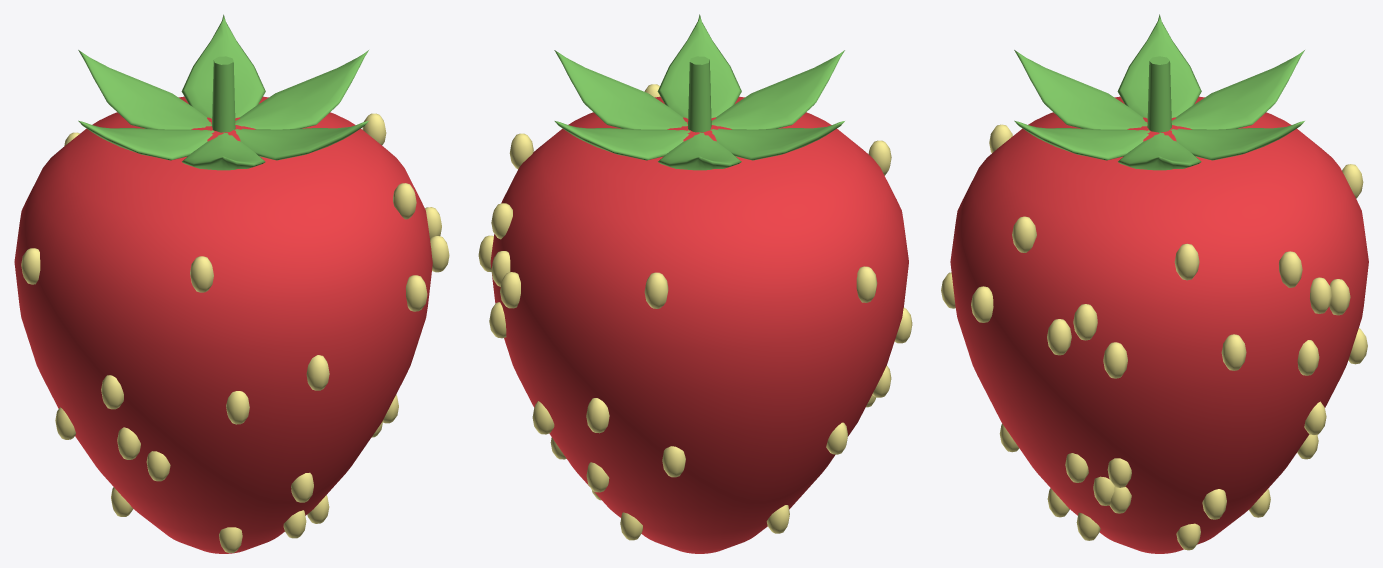
The model's file is strawberry.glb.
The picture shows the model from 3 angles, left to right: view 1: azimuth 30°, elevation 25°; view 2: azimuth 150°, elevation 25°; view 3: azimuth 270°, elevation 25°; orthographic projection.
Parts seen in each view (by area): view 1: strawberry; view 2: strawberry; view 3: strawberry.
Part boxes in pixels (left/top/right/bottom): strawberry: left=14, top=14, right=449, bottom=553; strawberry: left=478, top=14, right=912, bottom=553; strawberry: left=941, top=14, right=1368, bottom=553.
Size of the model in its own units: 0.4198 by 0.52 by 0.4111.
